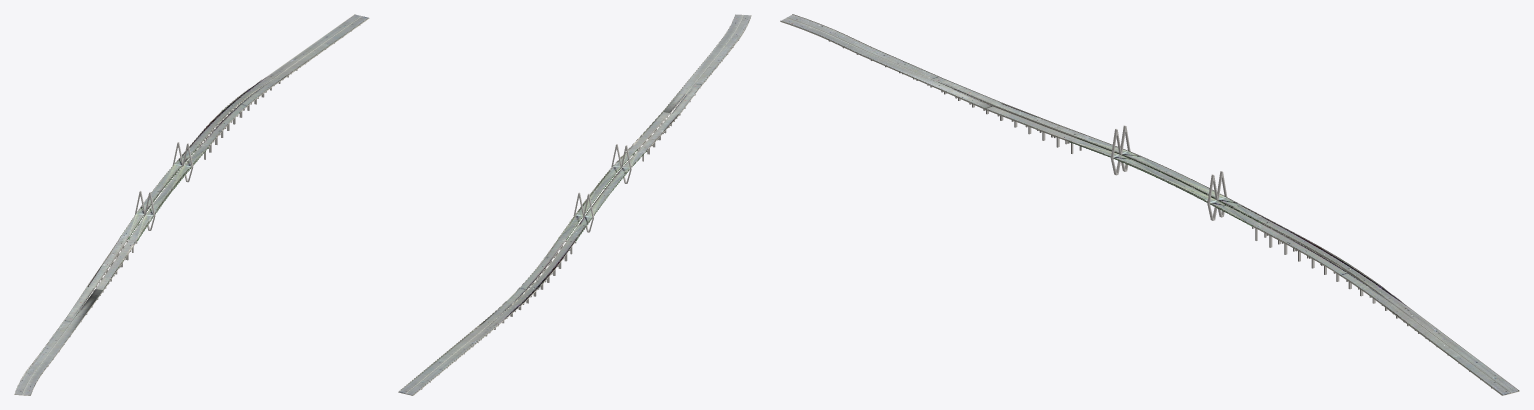
File: FH_Bridge[1][2].fbx
The picture shows the model from 3 angles, left to right: view 1: azimuth 30°, elevation 25°; view 2: azimuth 210°, elevation 25°; view 3: azimuth 270°, elevation 25°; orthographic projection. The views are drawn at different scales.
Parts seen in each view (by area): view 1: Model; view 2: Model; view 3: Model.
Boxes of the visible parts, <box> form: Model: <box>14,14,369,395</box>; Model: <box>398,14,751,395</box>; Model: <box>780,14,1519,395</box>.
Size of the model in its own units: 94203 by 5243 by 77566.
